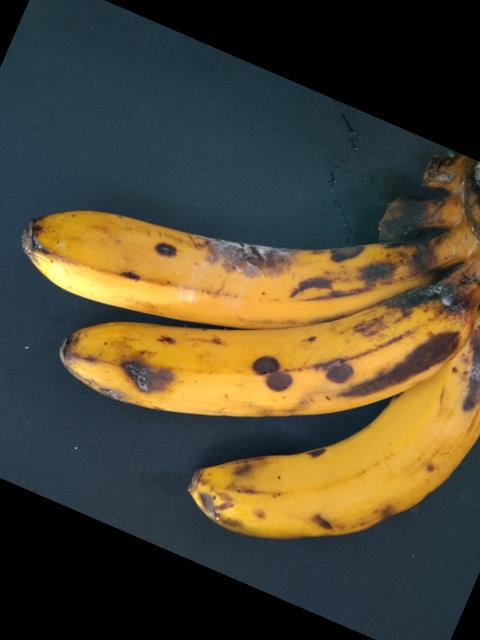ripe: (191, 359, 479, 553), (65, 298, 452, 408)
rotten: (23, 212, 443, 314)
